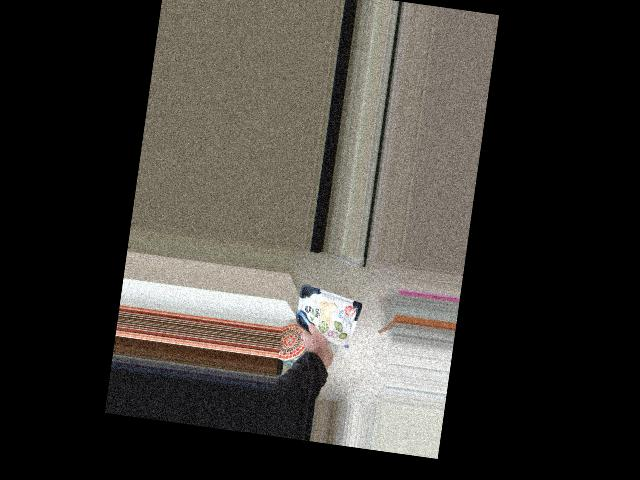cheese: (301, 301, 355, 357)
